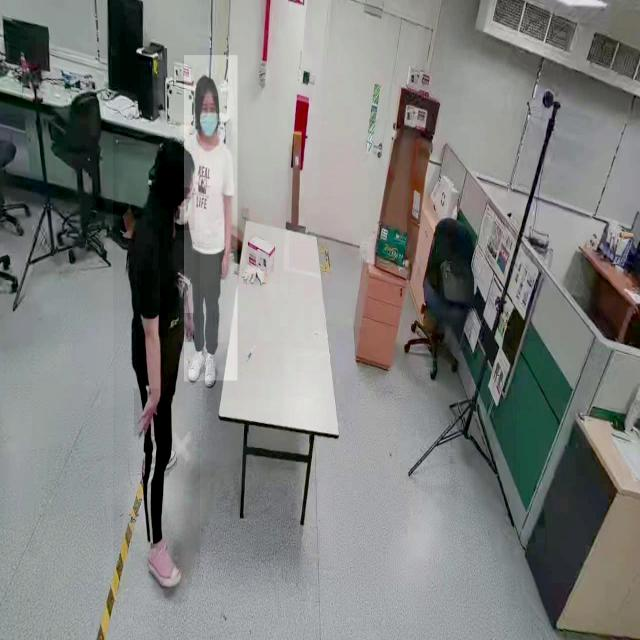face_mask: (196, 96, 220, 146), (175, 188, 195, 230)
hand_noglove: (134, 388, 160, 438), (185, 313, 195, 343), (220, 252, 230, 280)
head_nohelmet: (154, 138, 196, 180), (194, 74, 219, 97)
person: (113, 136, 201, 589), (184, 55, 238, 381)
shoes: (144, 538, 180, 594), (184, 343, 206, 386), (202, 346, 218, 389)
